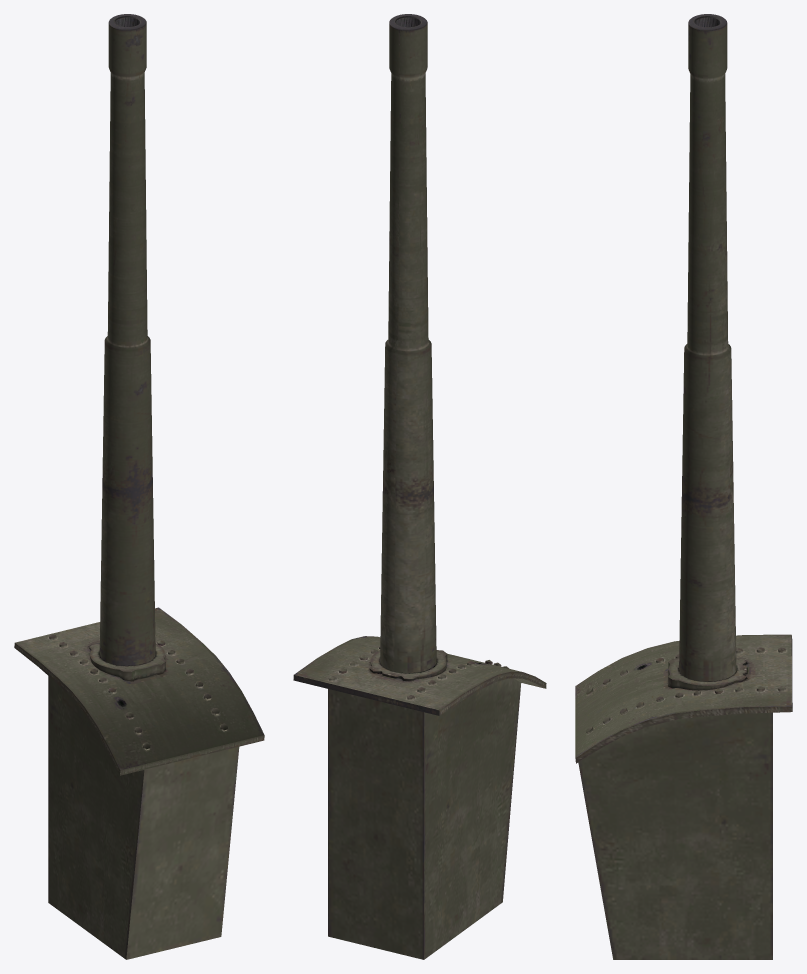
Rendered from Gun_01.glb.
The picture shows the model from 3 angles, left to right: view 1: azimuth 30°, elevation 25°; view 2: azimuth 150°, elevation 25°; view 3: azimuth 270°, elevation 25°; orthographic projection. The views are drawn at different scales.
Visible parts, largest first — view 1: set_0_group_0; view 2: set_0_group_0; view 3: set_0_group_0.
Part boxes in pixels (x1=…): set_0_group_0: x1=14, y1=14, x2=264, y2=959; set_0_group_0: x1=293, y1=14, x2=546, y2=959; set_0_group_0: x1=575, y1=14, x2=792, y2=959.
Size of the model in its own units: 1.02 by 6.06 by 1.3.
Materials: 1 (1 with a texture image).
